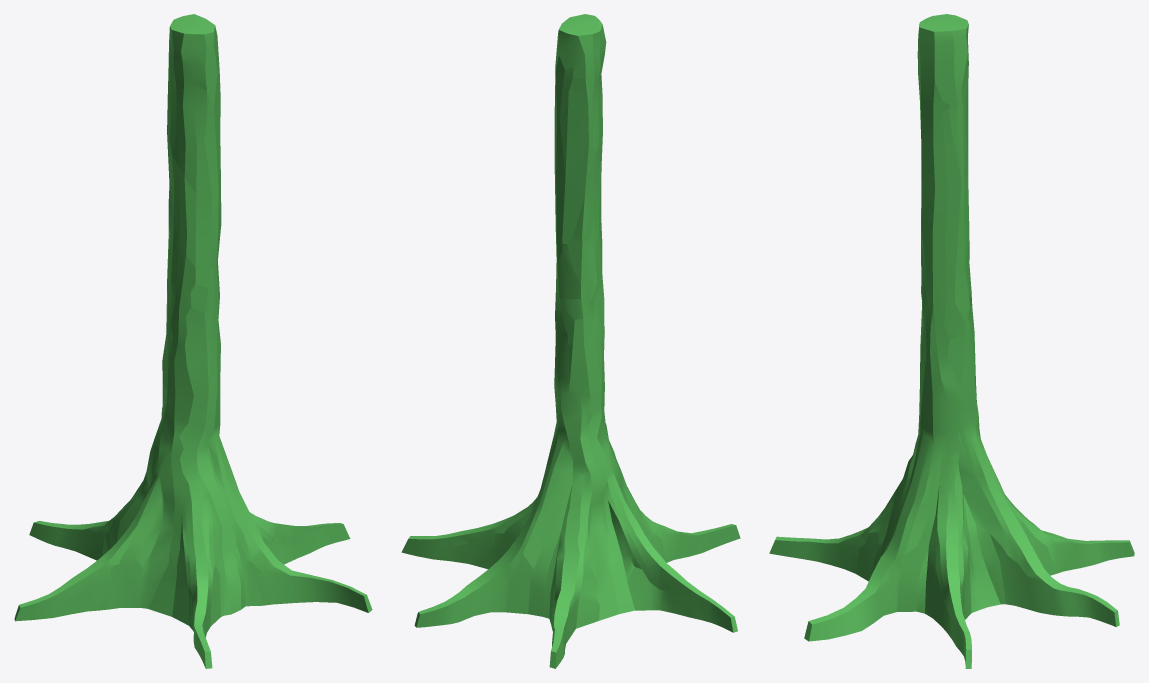
Rendered from jungle_big_tree_D.fbx.
3 renders of one model, left to right at view 1: azimuth 30°, elevation 25°; view 2: azimuth 150°, elevation 25°; view 3: azimuth 270°, elevation 25°, orthographic.
Parts seen in each view (by area): view 1: jungle_big_tree_D; view 2: jungle_big_tree_D; view 3: jungle_big_tree_D.
Part boxes in pixels (x1=…): jungle_big_tree_D: x1=14, y1=14, x2=372, y2=668; jungle_big_tree_D: x1=401, y1=14, x2=740, y2=668; jungle_big_tree_D: x1=769, y1=14, x2=1134, y2=668.
Size of the model in its own units: 448 by 718 by 421.
